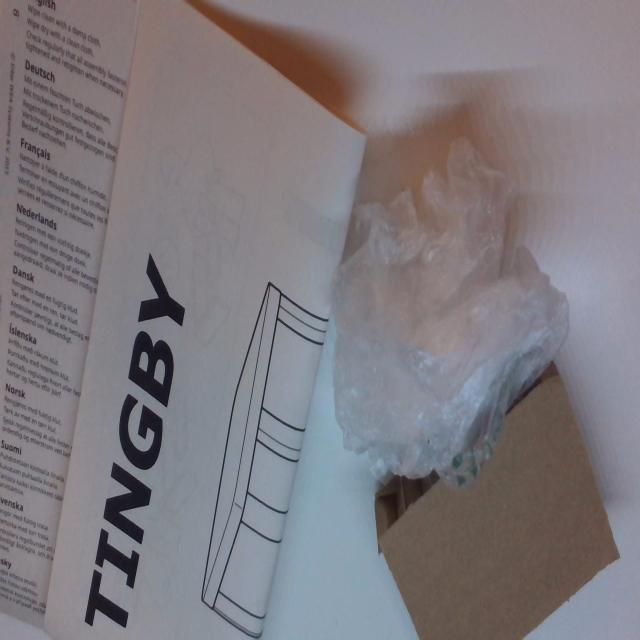Cardboard: (377, 368, 622, 640)
Paper: (2, 0, 368, 640)
